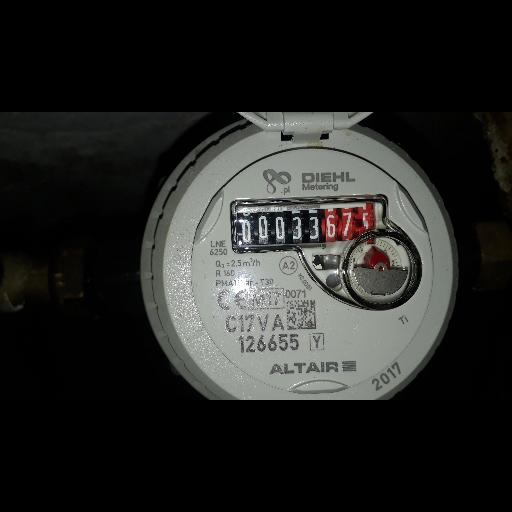0: (254, 212, 272, 245), (272, 212, 289, 245), (239, 213, 255, 246)
3: (289, 211, 305, 244), (307, 210, 322, 243)
5: (356, 203, 374, 237)
6: (323, 208, 339, 242)
7: (342, 207, 355, 241)
border_water_meter_number: (235, 201, 390, 249)
